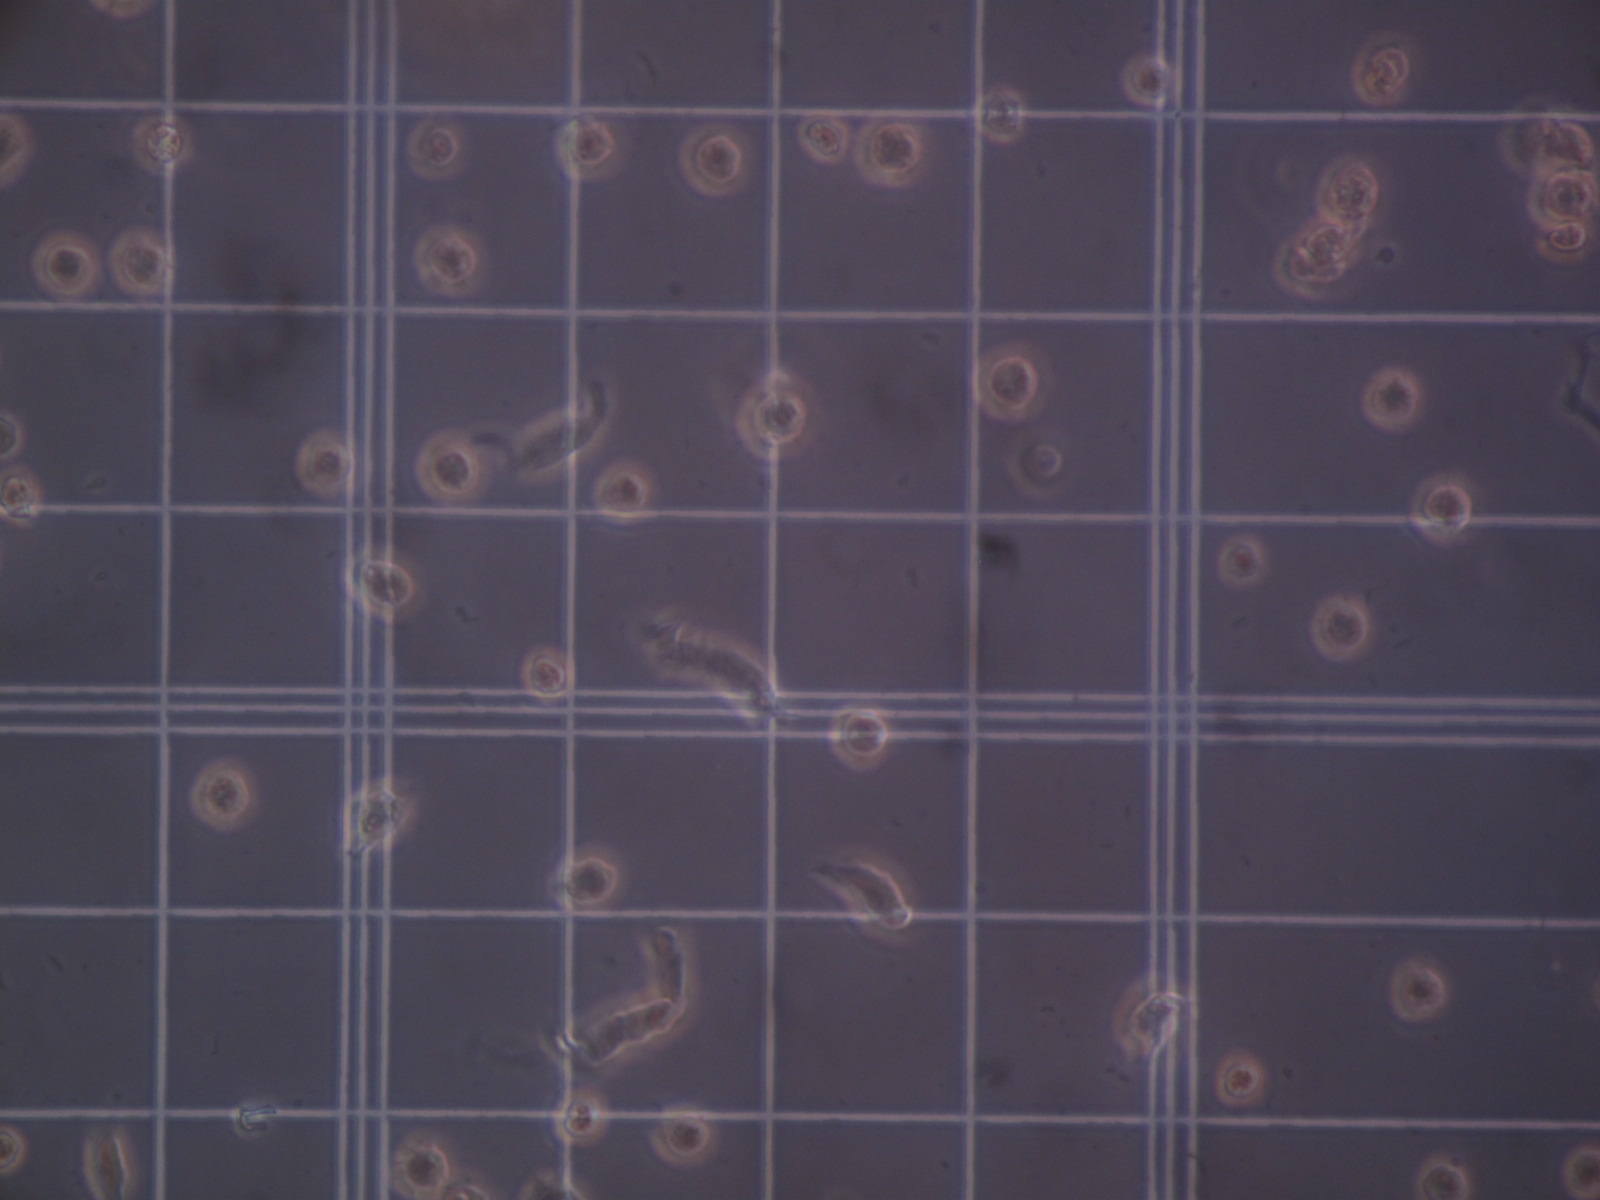hemo: (834, 847, 918, 947), (734, 372, 823, 461), (341, 541, 423, 625), (1116, 973, 1186, 1063), (1274, 222, 1354, 297), (413, 221, 490, 297), (546, 845, 627, 916), (975, 340, 1046, 424), (416, 426, 490, 500), (344, 782, 417, 857), (678, 126, 755, 195), (850, 117, 929, 185), (31, 229, 103, 303), (1313, 153, 1381, 228), (191, 759, 258, 832), (552, 117, 627, 182), (391, 1129, 457, 1200), (1409, 471, 1473, 545), (1531, 165, 1597, 231), (825, 707, 891, 771), (593, 464, 661, 526), (1311, 595, 1374, 661), (295, 427, 355, 495), (108, 231, 171, 295), (83, 1129, 139, 1200), (649, 1109, 714, 1168), (1007, 432, 1063, 499), (406, 120, 466, 182), (1354, 42, 1411, 106), (1392, 961, 1448, 1024), (1533, 113, 1592, 169), (132, 117, 191, 173), (1363, 371, 1417, 431), (973, 84, 1026, 145), (795, 108, 850, 165), (1214, 1049, 1266, 1105), (522, 647, 576, 700), (556, 1092, 610, 1143), (1123, 50, 1173, 105), (1216, 532, 1264, 587), (1, 112, 37, 187), (1, 465, 42, 527), (1419, 1158, 1477, 1200), (1536, 222, 1589, 265), (1563, 1143, 1600, 1197), (1, 1126, 24, 1172), (1, 412, 21, 460)
